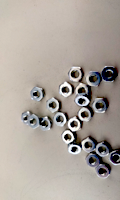nut: (68, 66, 84, 83), (102, 66, 118, 82), (82, 137, 97, 154), (59, 83, 75, 98), (96, 163, 111, 179), (86, 72, 101, 87), (96, 142, 111, 157), (93, 99, 109, 113), (31, 87, 45, 103), (46, 98, 60, 114), (75, 94, 90, 108), (79, 108, 93, 123), (86, 153, 100, 168), (68, 116, 81, 132), (28, 114, 41, 129), (76, 83, 89, 97), (54, 113, 67, 127), (68, 142, 82, 155), (62, 130, 75, 144), (40, 117, 53, 131), (110, 150, 120, 166), (22, 112, 31, 126)
